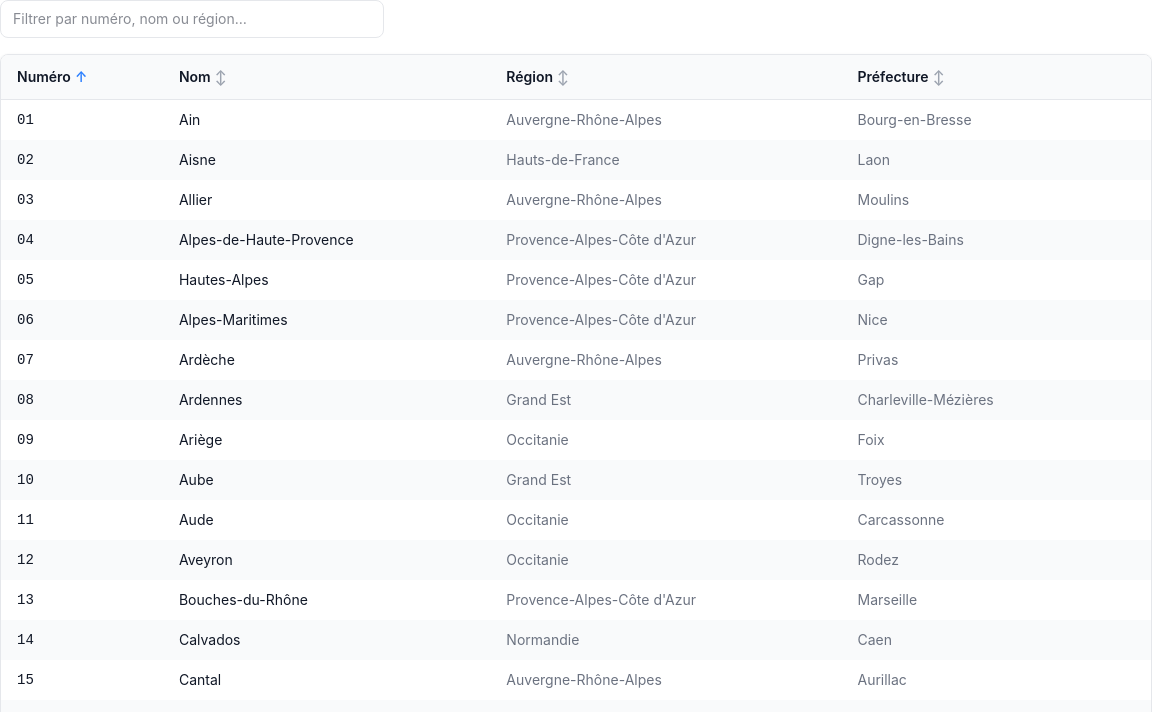
it: TableauFlat – filtre par nom › affiche plusieurs résultats pour une recherche partielle
"Savoie" correspond à Savoie (73) et Haute-Savoie (74)
Type "Savoie" into the field with placeholder "Filtrer par numéro, nom ou région…".
click(192, 19); type("Savoie")  # box [0,0,384,38]
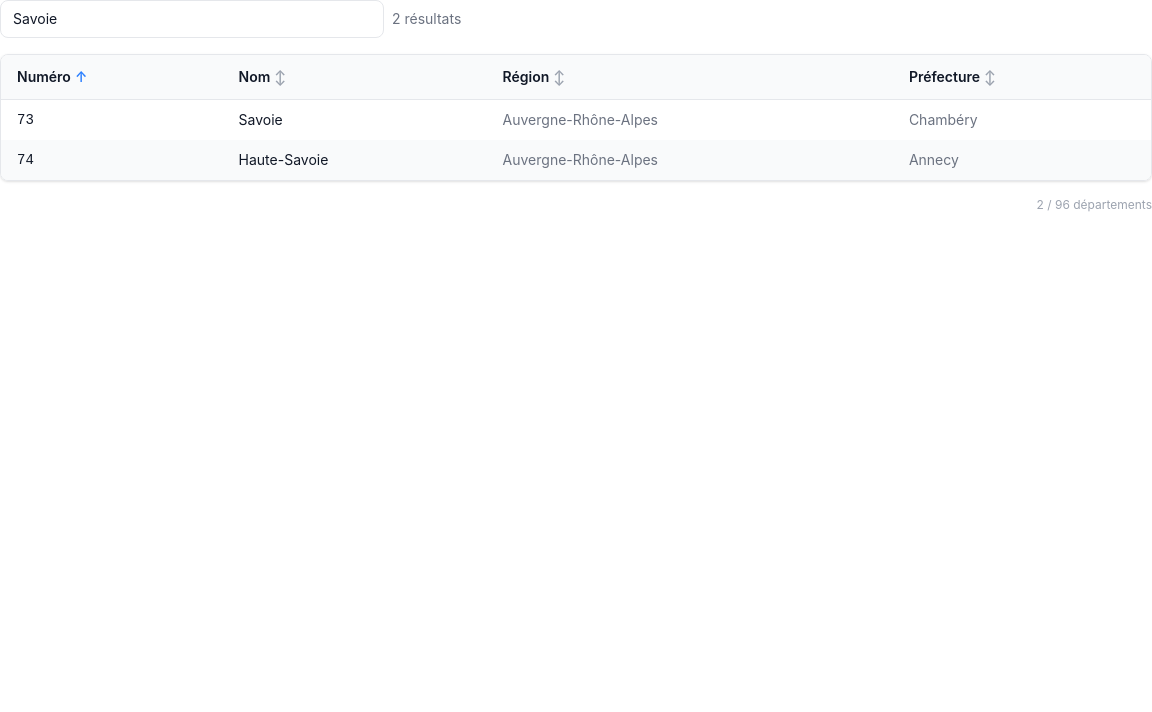
Expected: the text "2 résultats" is shown, [392,9,461,29]
